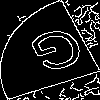G: (25, 25, 94, 83)
